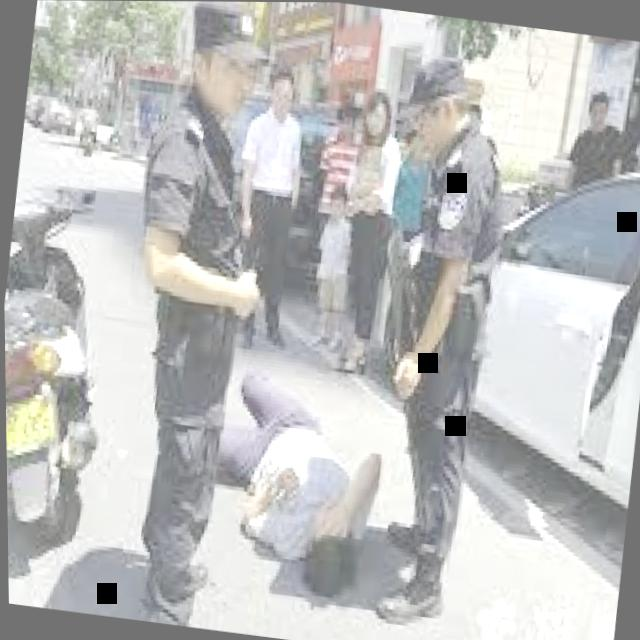Fall-Detected: (157, 341, 400, 595)
